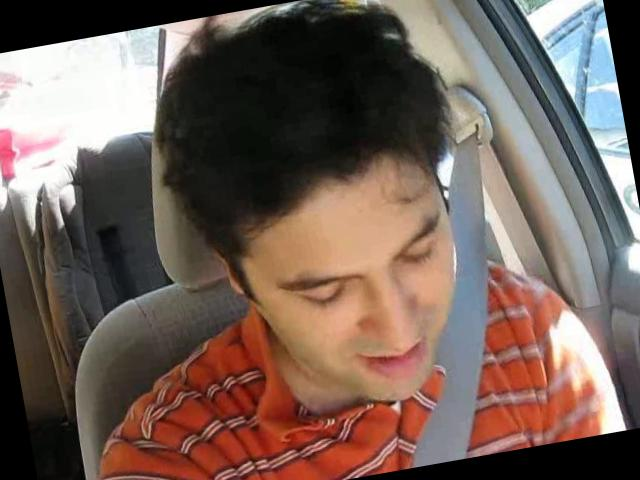eye_closed: (282, 281, 354, 320), (390, 239, 444, 280)
face: (260, 222, 479, 421)
